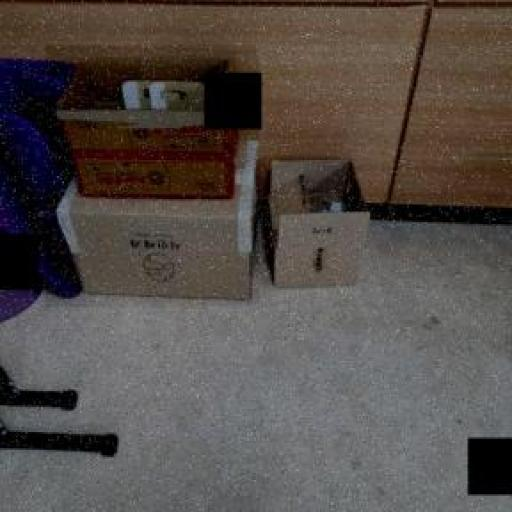box: (45, 44, 259, 308), (268, 138, 382, 300)
